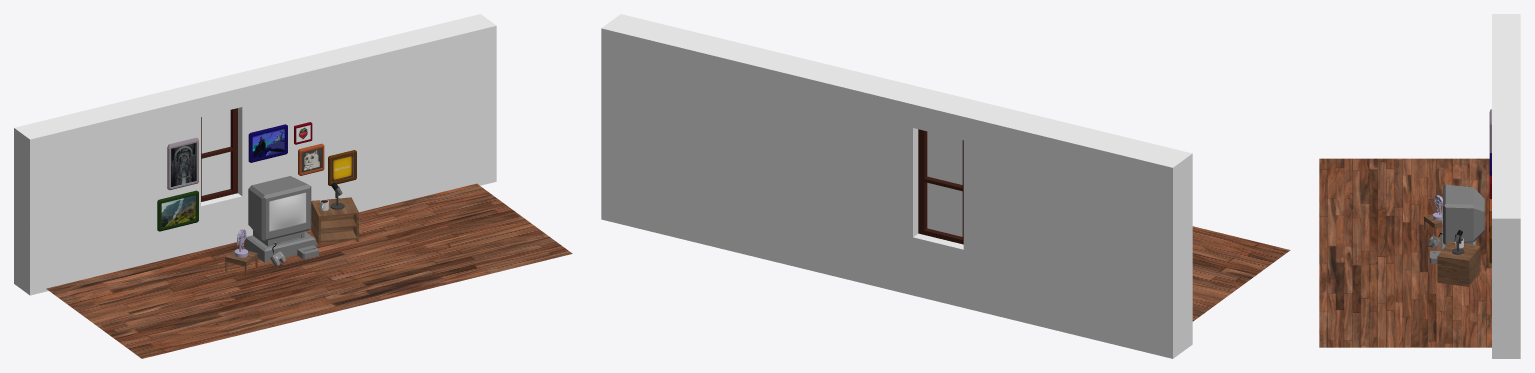
The model's file is main_scene.glb.
The picture shows the model from 3 angles, left to right: view 1: azimuth 30°, elevation 25°; view 2: azimuth 150°, elevation 25°; view 3: azimuth 270°, elevation 25°; orthographic projection. The views are drawn at different scales.
Visible parts, largest first — view 1: Wall, Floor, TV, WindowGlass, shelf, Frame4, Frame3, Frame, Glass, WindowFrame, 立方体, Frame2 (+1 smaller); view 2: Wall, Floor, WindowGlass, WindowFrame; view 3: Floor, Wall, TV, shelf, Models, 立方体.001, Microphone.
Boxes of the visible parts, x1,y1,x2,y2 form: Wall: [14, 14, 496, 295]; Floor: [46, 183, 572, 358]; TV: [248, 176, 311, 246]; WindowGlass: [201, 110, 230, 195]; shelf: [311, 197, 358, 245]; Frame4: [167, 137, 198, 190]; Frame3: [157, 190, 198, 231]; Frame: [248, 124, 287, 162]; Glass: [269, 192, 306, 231]; WindowFrame: [201, 108, 237, 201]; 立方体: [245, 231, 315, 262]; Frame2: [328, 150, 356, 185]; Wall: [601, 14, 1192, 358]; Floor: [1192, 226, 1290, 321]; WindowGlass: [927, 131, 962, 236]; WindowFrame: [918, 129, 963, 244]; Floor: [1319, 158, 1491, 347]; Wall: [1492, 14, 1520, 358]; TV: [1443, 184, 1484, 244]; shelf: [1437, 241, 1480, 286]; Models: [1432, 195, 1442, 220]; 立方体.001: [1424, 212, 1442, 235]; Microphone: [1452, 230, 1464, 254].
Size of the model in its own units: 2.82 by 0.9334 by 1.17.
Materials: 27 (8 with a texture image).
